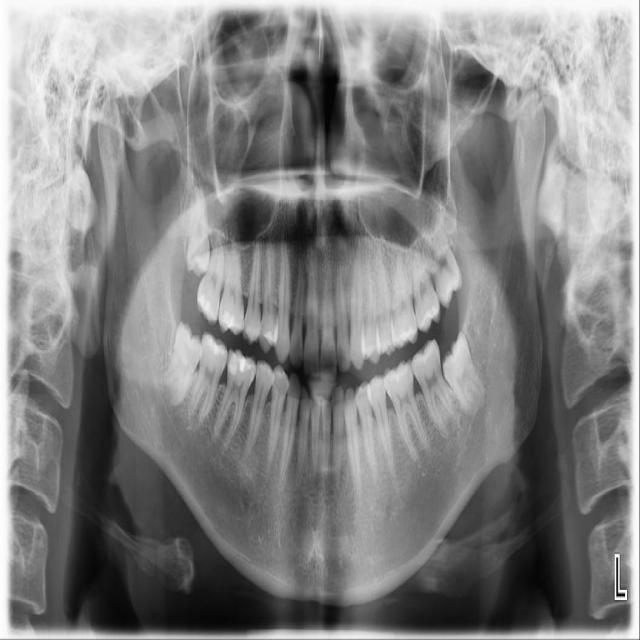Filling: (218, 304, 238, 330), (229, 354, 254, 374), (204, 336, 228, 354), (263, 322, 278, 344)
impacted tooth: (150, 323, 202, 407), (443, 331, 488, 414), (183, 171, 211, 273)
